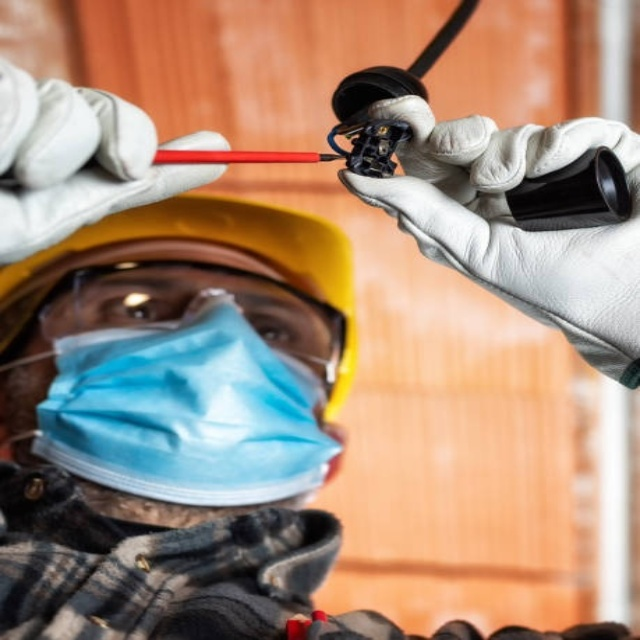Gafas: (0, 253, 350, 374)
Guantes: (335, 99, 640, 392), (0, 41, 235, 282)
Mascara: (29, 296, 342, 506)
